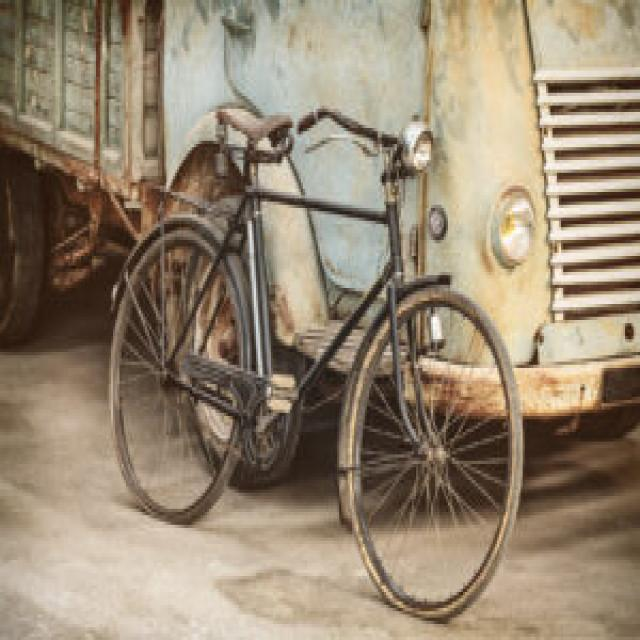road-bike: (105, 103, 525, 619)
